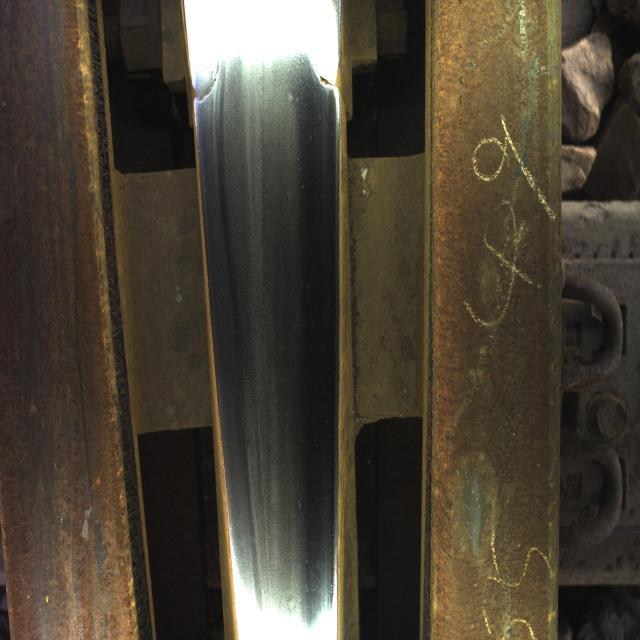crack: (188, 29, 354, 140)
